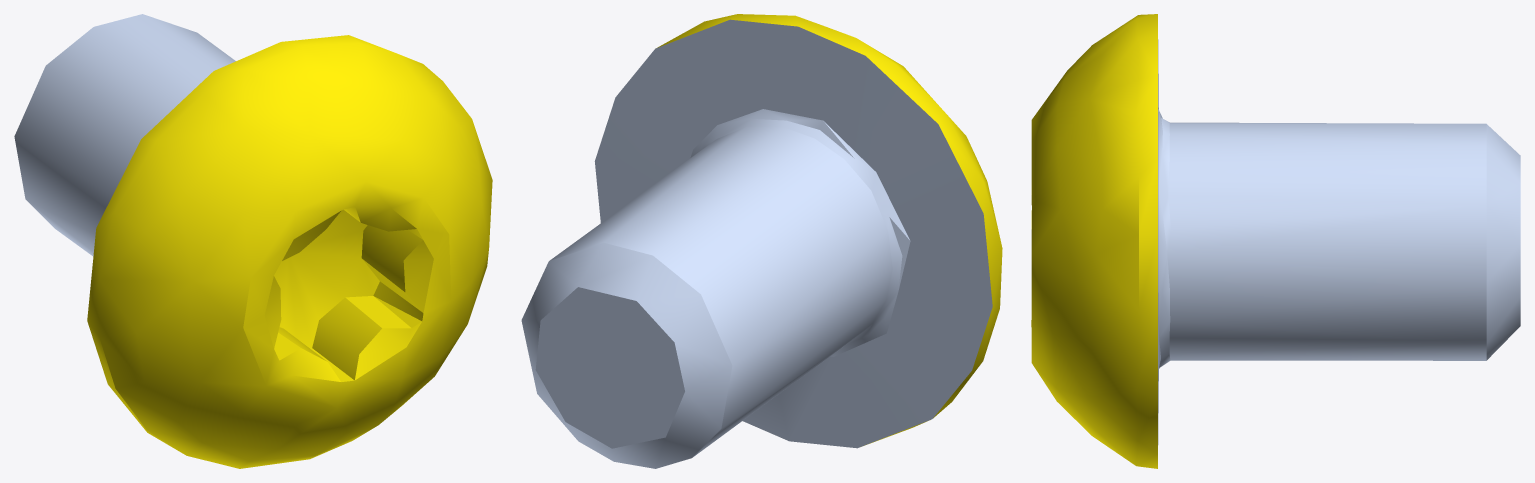
Rendered from Colored__8-32_x_1_4_Star_Drive_Screw__276-4990__001.glb.
3 renders of one model, left to right at view 1: azimuth 30°, elevation 25°; view 2: azimuth 150°, elevation 25°; view 3: azimuth 270°, elevation 25°, orthographic.
Parts seen in each view (by area): view 1: Colored #8-32 x 1_4 Star Drive Screw (276-4990).001; view 2: Colored #8-32 x 1_4 Star Drive Screw (276-4990).001; view 3: Colored #8-32 x 1_4 Star Drive Screw (276-4990).001.
Boxes of the visible parts, <box> form: Colored #8-32 x 1_4 Star Drive Screw (276-4990).001: <box>14,14,492,468</box>; Colored #8-32 x 1_4 Star Drive Screw (276-4990).001: <box>521,14,1002,468</box>; Colored #8-32 x 1_4 Star Drive Screw (276-4990).001: <box>1031,14,1520,468</box>.
Size of the model in its own units: 0.3123 by 0.3131 by 0.3373.
